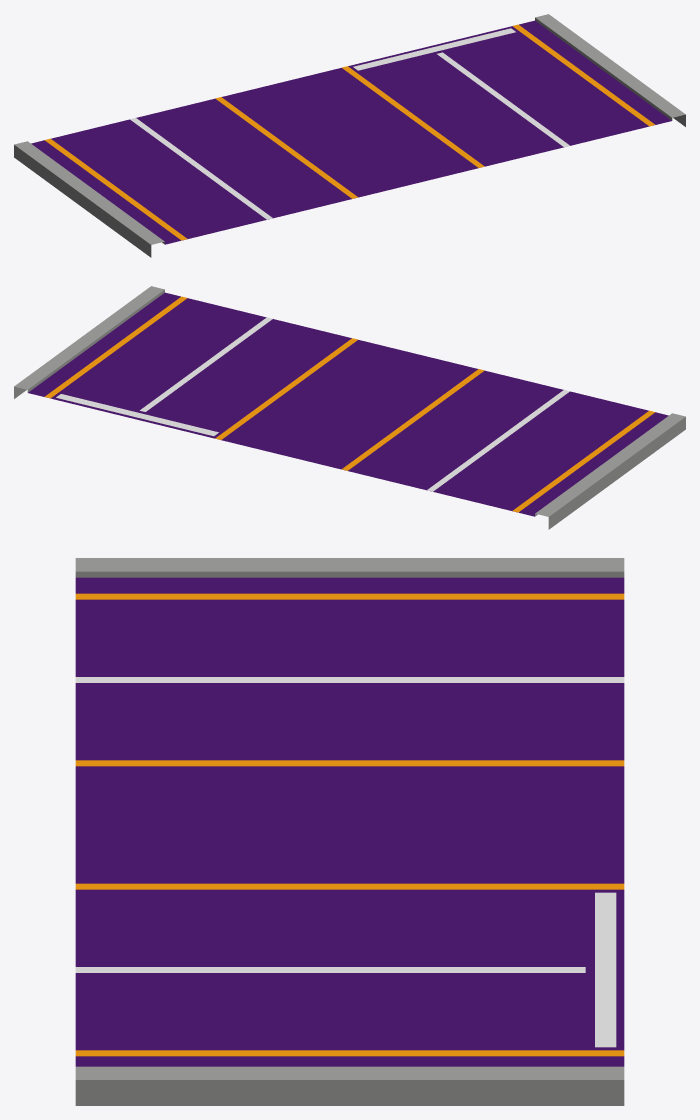
Rendered from Road_C_2L_1_7.fbx.
The picture shows the model from 3 angles, top to bottom: view 1: azimuth 30°, elevation 25°; view 2: azimuth 150°, elevation 25°; view 3: azimuth 270°, elevation 25°; orthographic projection. The views are drawn at different scales.
Visible parts, largest first — view 1: Road_C_2L_1_7; view 2: Road_C_2L_1_7; view 3: Road_C_2L_1_7.
Boxes of the visible parts, left/top/right/bottom form: Road_C_2L_1_7: left=14, top=14, right=685, bottom=257; Road_C_2L_1_7: left=14, top=286, right=685, bottom=529; Road_C_2L_1_7: left=75, top=558, right=624, bottom=1105.
Bounding box in the file's own units: 1800 × 41.48 × 800.
